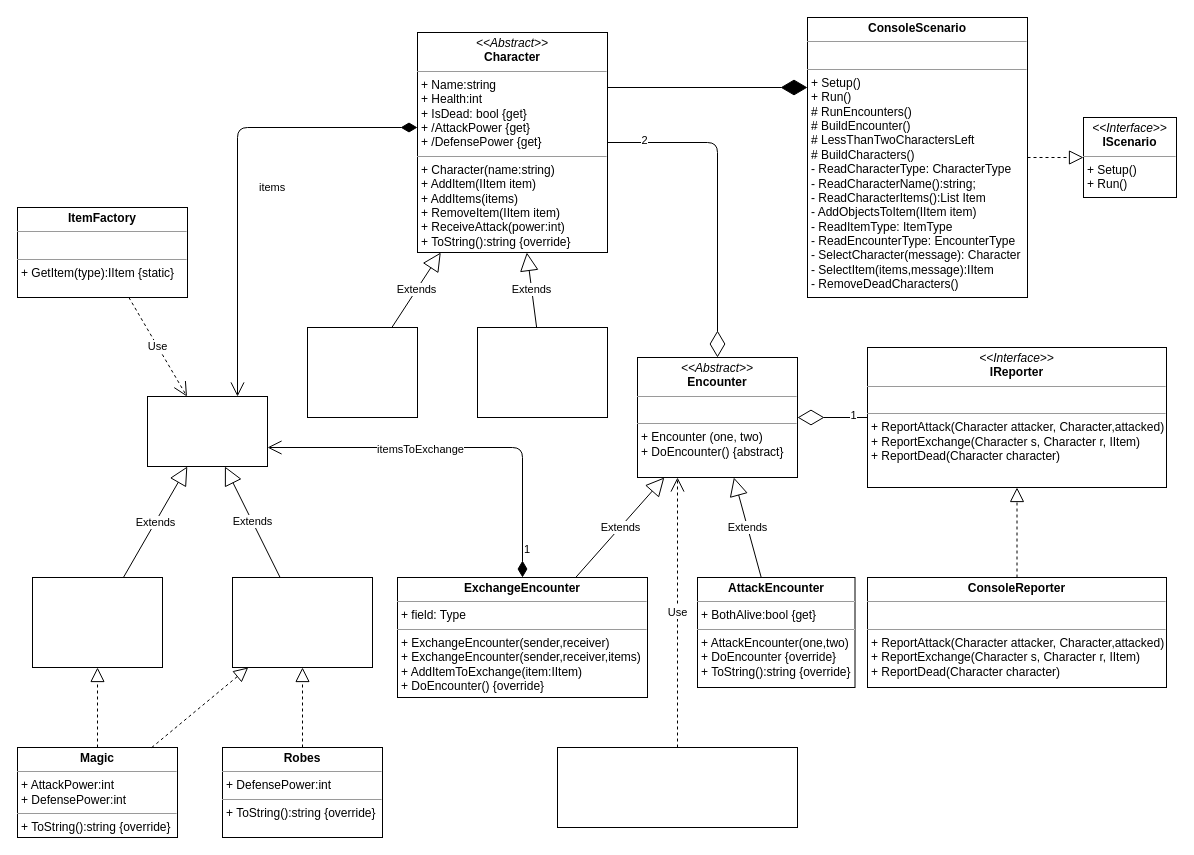
The diagram is 1194 pixels wide and 855 high, and some of its shapes have lost their labels. The shapes that lost their labels are listed below. From the top down, each one's box as (x1, y1, x2, y2) in pixels, then its label:
(306, 326, 418, 418): Elf + Elf(name:string)
(476, 326, 608, 418): Wizard + Wizard(name:string)
(146, 396, 268, 466): <<Interface>> IItem
(32, 576, 162, 668): <<Interface>> IAattackItem + AttackPower:int {get}
(232, 576, 372, 668): <<Interface>> IDefenseItem + DefensePower:int {get}
(556, 746, 798, 828): EncounterFactory + GetEncounter(type, one,two):Encounter
